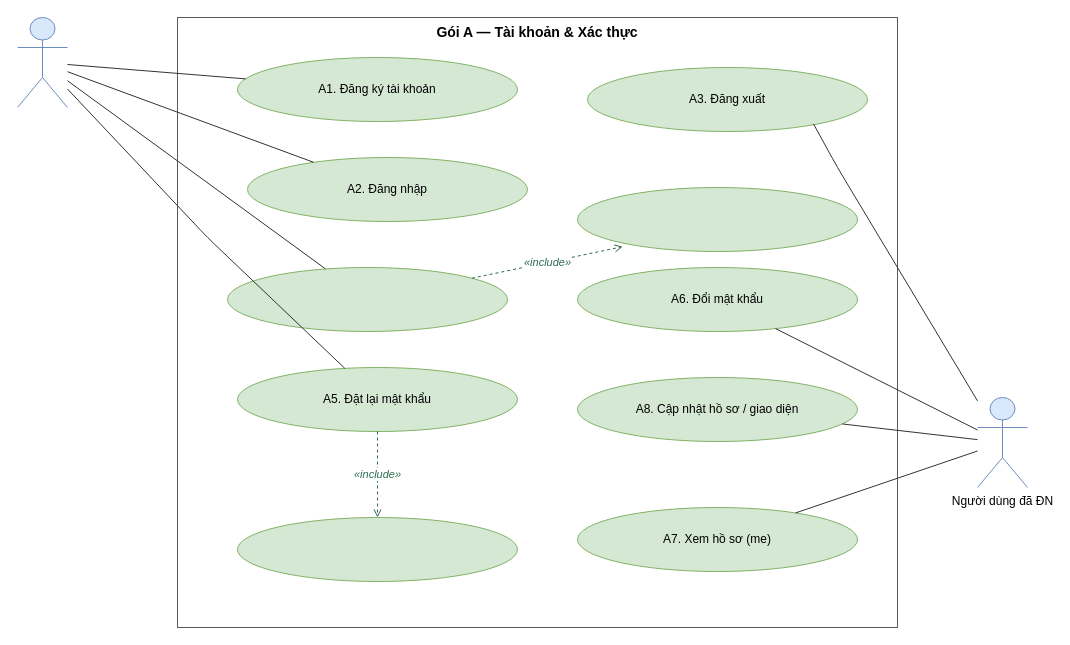
This 1070x645 diagram has some shape labels left out. The shapes that lost their labels are listed below. From the top down, each one's box as (x1, y1, x2, y2) in pixels, then its label:
(16, 16, 68, 108): Guest
(576, 186, 858, 252): Tạo resetToken
(226, 266, 508, 332): A4. Quên mật khẩu
(236, 516, 518, 582): Kiểm tra hạn Token
